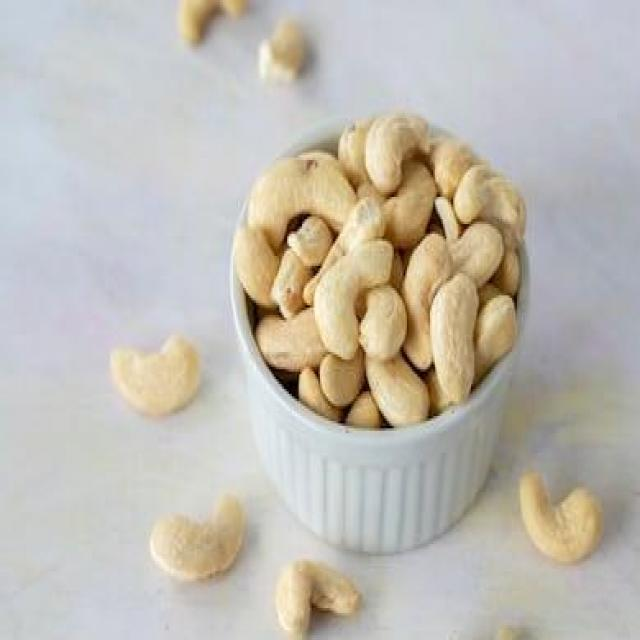Cashew: (96, 326, 248, 454), (139, 496, 273, 605), (520, 457, 617, 568), (238, 157, 373, 226), (310, 248, 382, 364), (282, 556, 364, 638), (427, 274, 487, 386), (198, 218, 284, 295), (364, 110, 433, 198), (459, 163, 547, 229), (439, 224, 540, 277), (403, 232, 435, 358), (372, 361, 432, 426), (318, 359, 358, 398), (344, 396, 382, 432)
